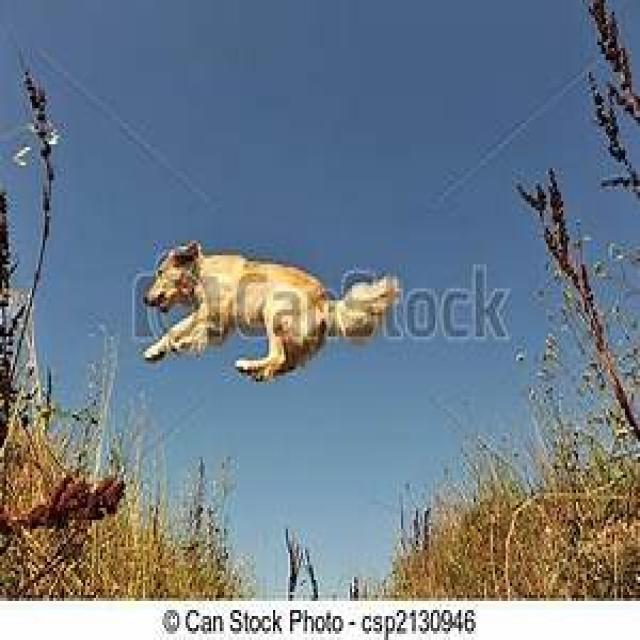dog: (146, 241, 399, 379)
